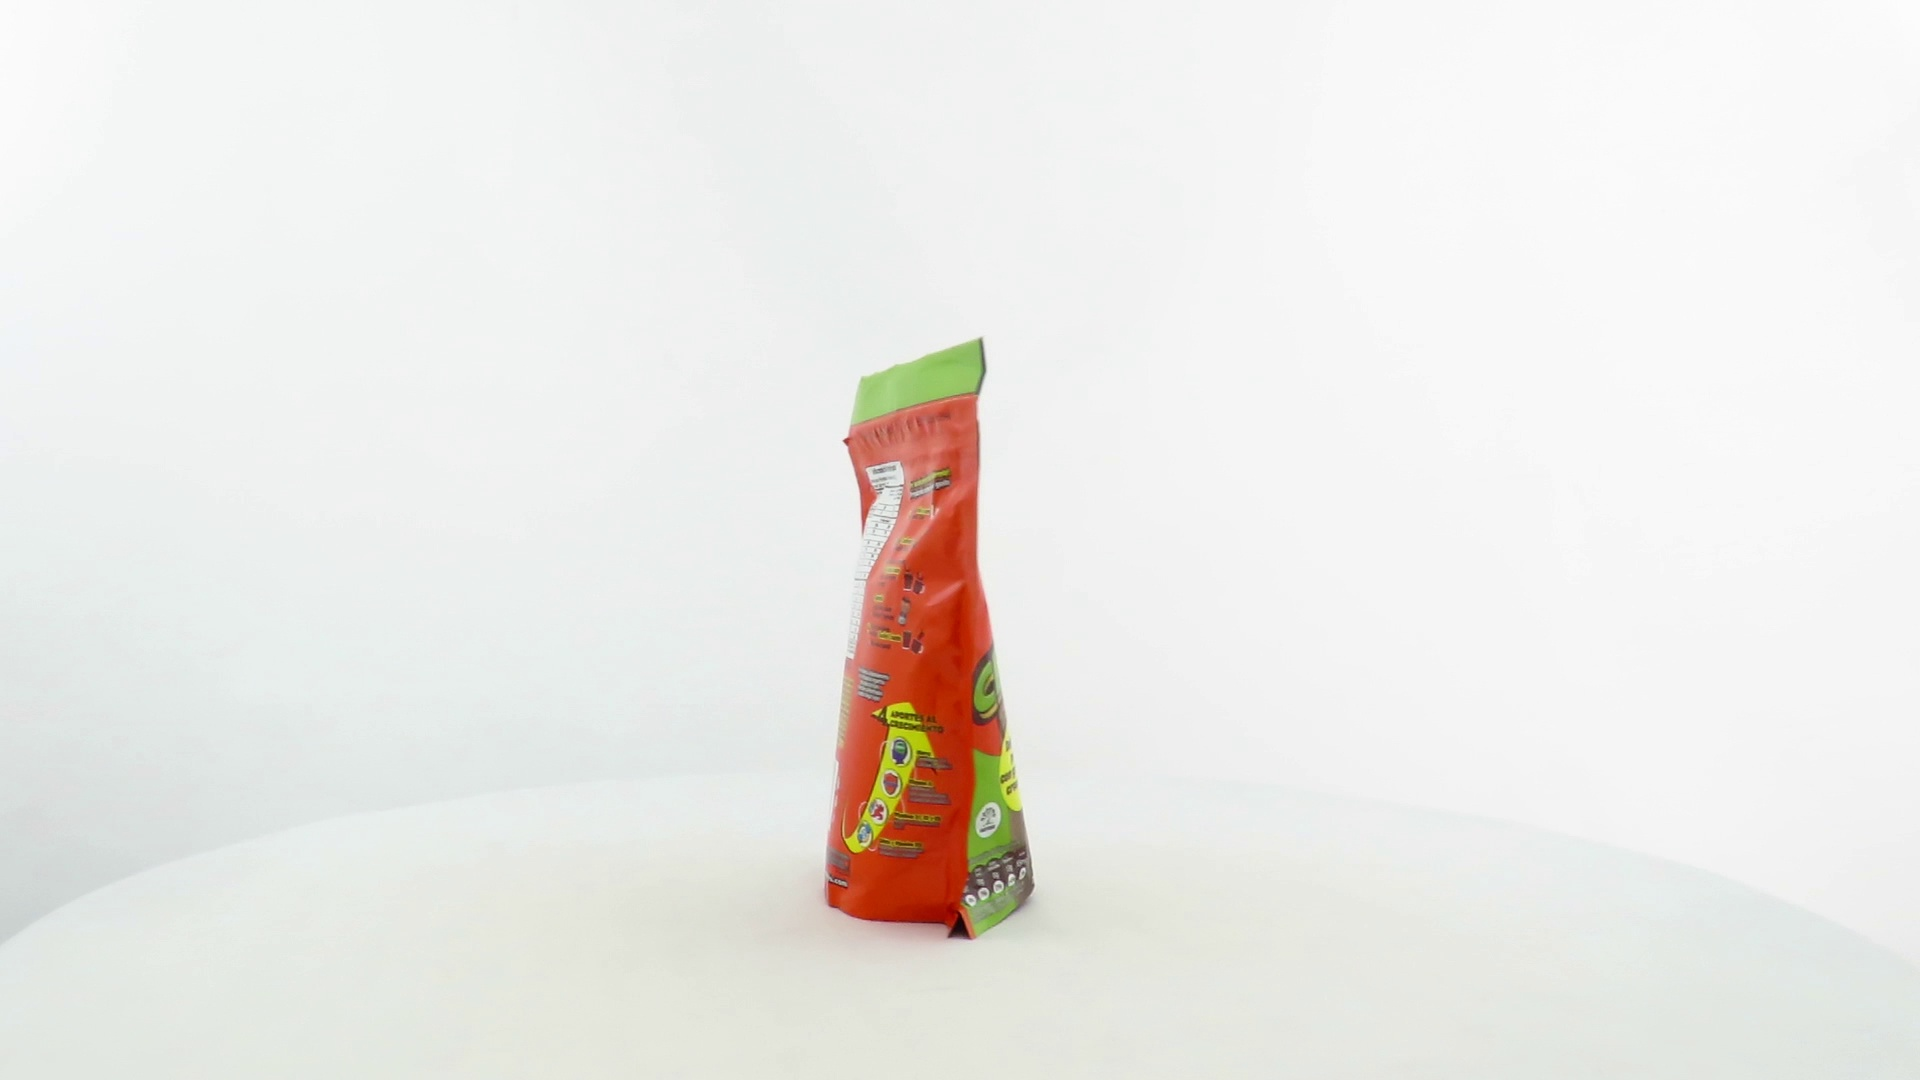COL0170102DYP10000: (819, 332, 1040, 945)
